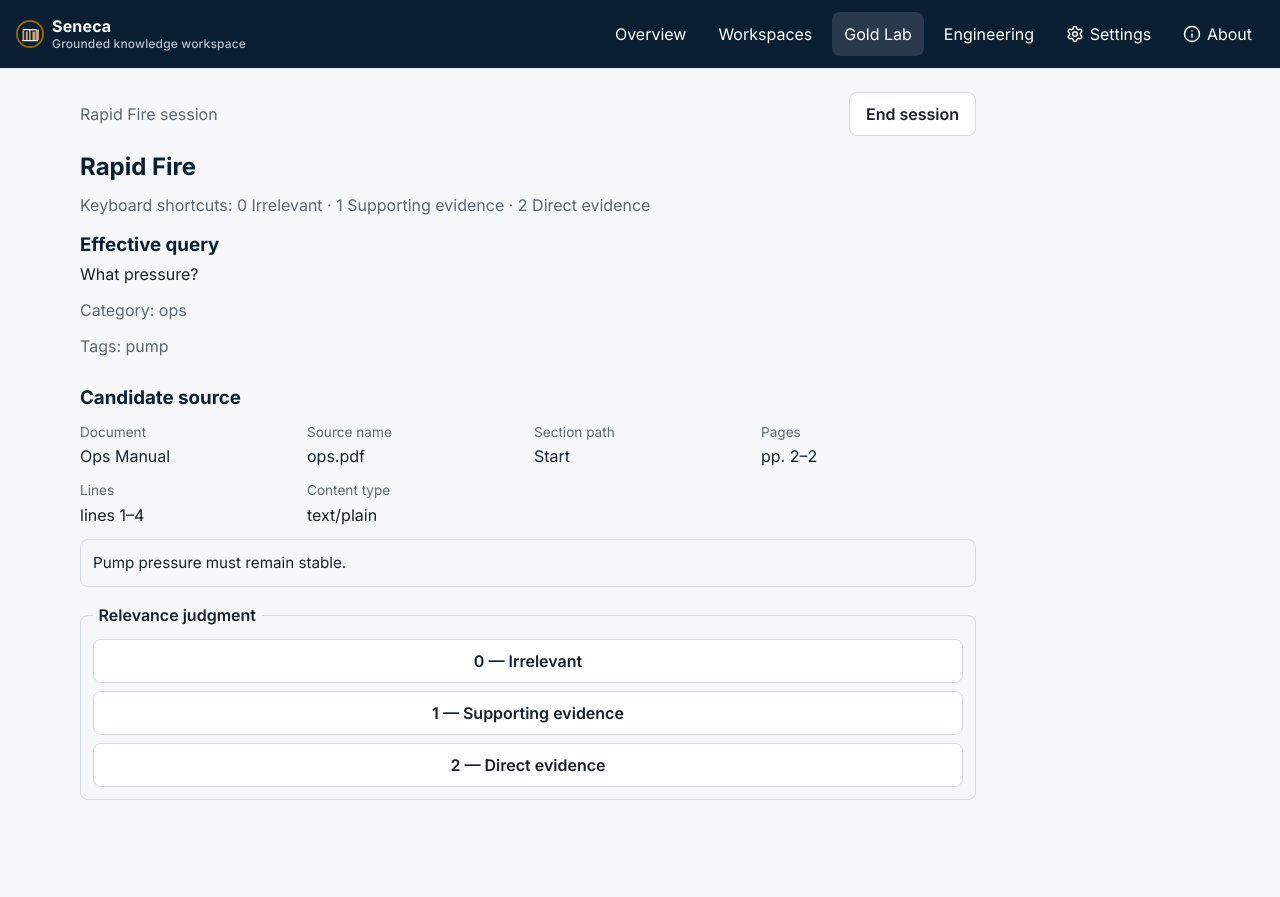
16N-A RF ALLOW_PRODUCTION policy › RF-WORK-02/03: /work mounts production RF and POSTs /relevance
Expected: the element with test id "rapid-fire-presentation" is shown, [80, 152, 976, 816]
Expected: the text "What pressure?" is shown, [80, 264, 198, 284]
Click the button "0 — Irrelevant".
click(528, 661)  # box [93, 639, 963, 683]
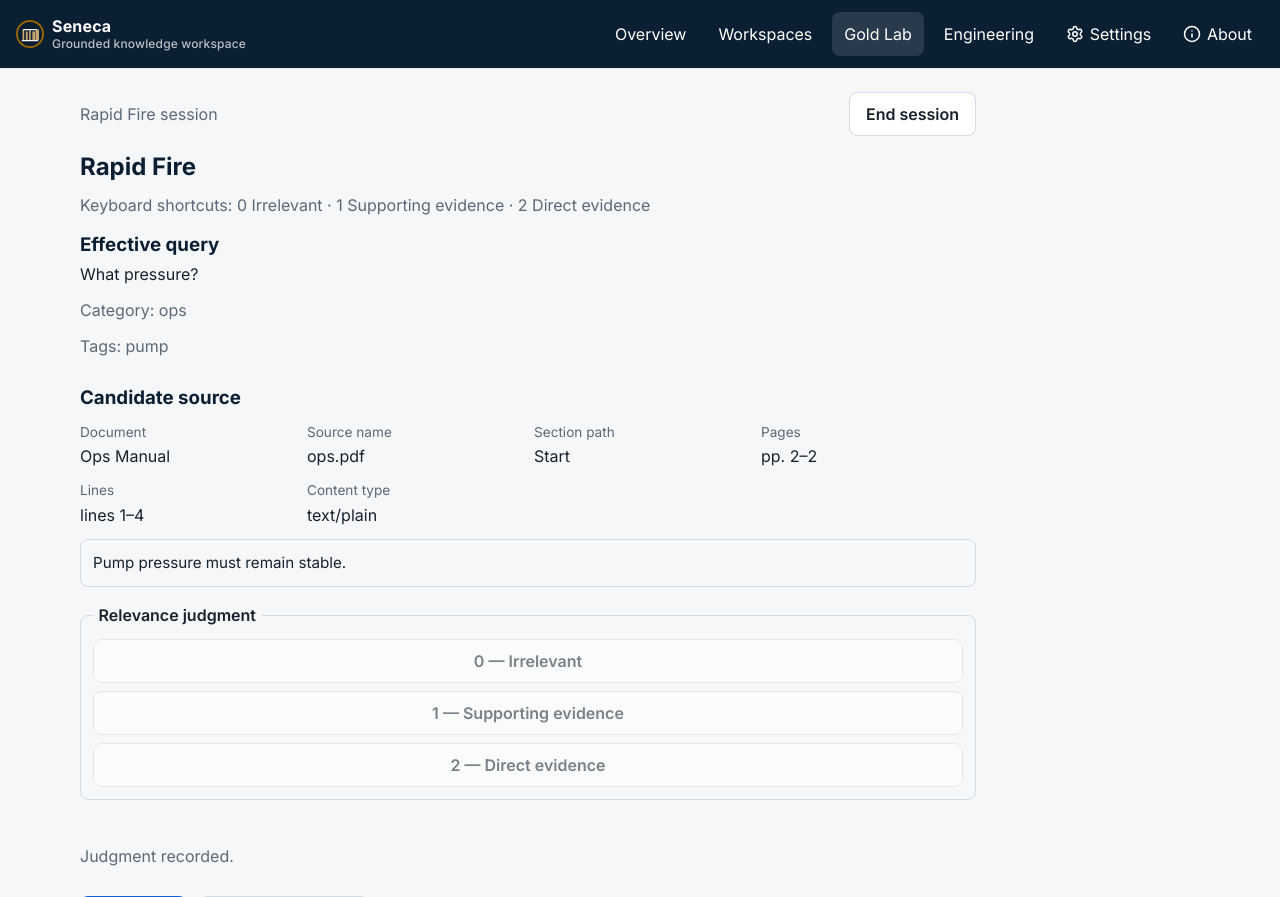
Expected: the text "Judgment recorded." is shown, [80, 846, 234, 866]
